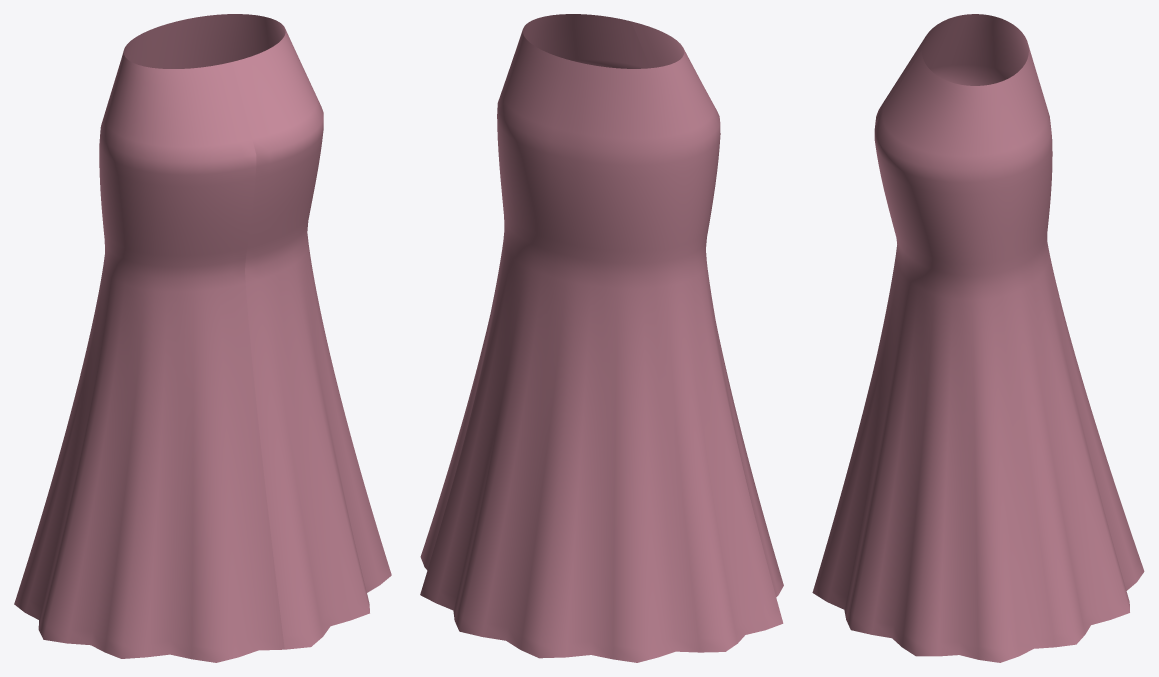
File: dress_slip.glb
3 renders of one model, left to right at view 1: azimuth 30°, elevation 25°; view 2: azimuth 150°, elevation 25°; view 3: azimuth 270°, elevation 25°, orthographic. The views are drawn at different scales.
Parts seen in each view (by area): view 1: Dress_Slip_Mesh; view 2: Dress_Slip_Mesh; view 3: Dress_Slip_Mesh.
Part boxes in pixels (<box>): Dress_Slip_Mesh: <box>14,14,391,662</box>; Dress_Slip_Mesh: <box>420,14,783,662</box>; Dress_Slip_Mesh: <box>812,14,1144,662</box>.
Size of the model in its own units: 0.6052 by 0.93 by 0.5259.
